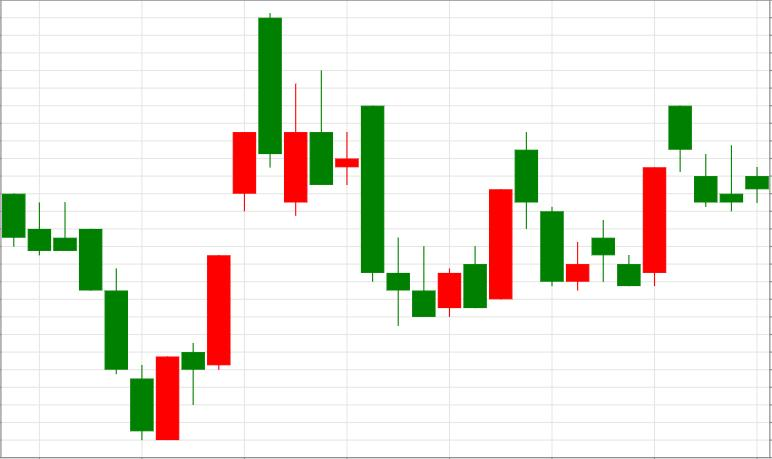bullish_engulfing_rise: (1, 193, 179, 441)
inverse_hammer_rise: (259, 12, 436, 326)
